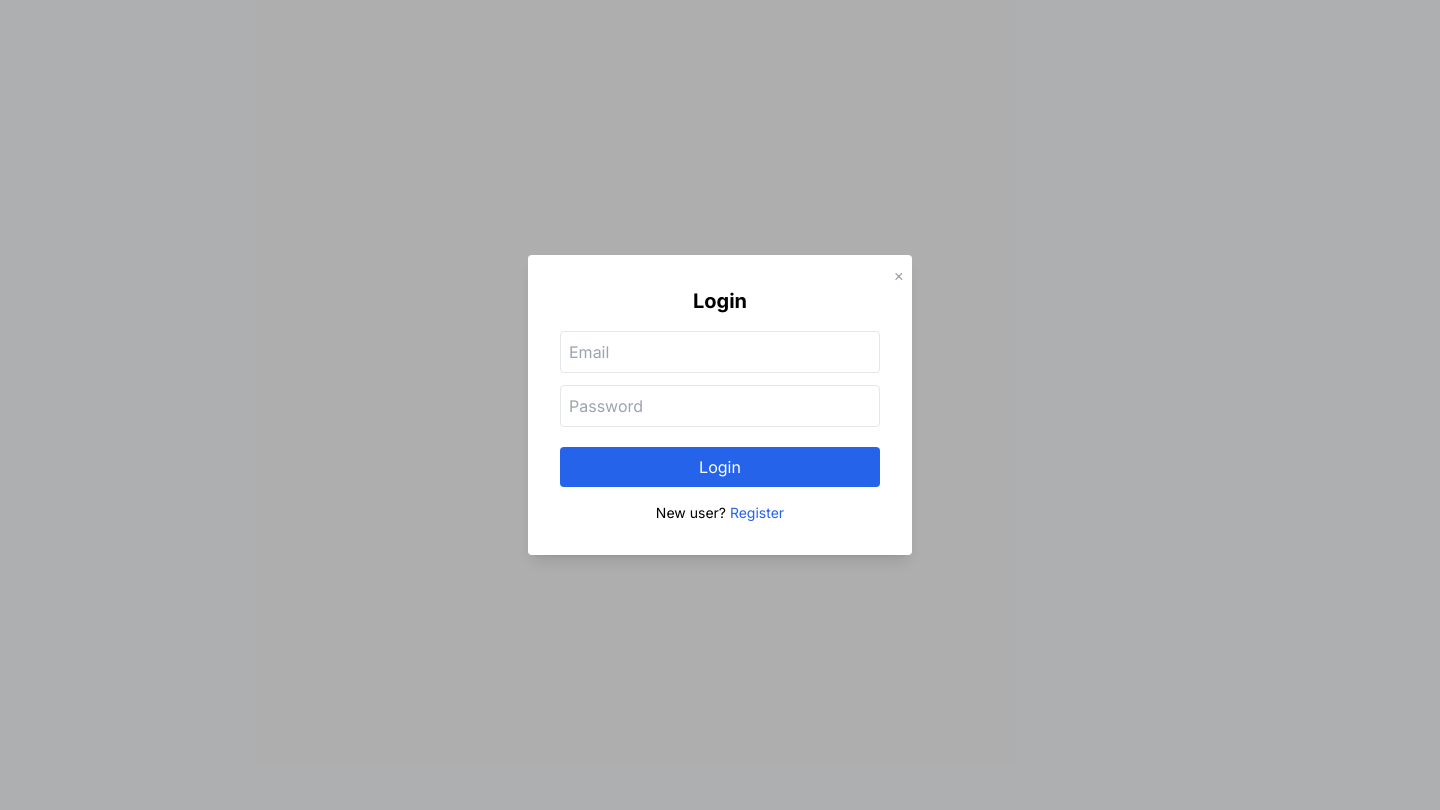
Test: AuthModal › renders login and register forms
expect the heading "Login" is shown: met, box x1=693 y1=289 x2=747 y2=313
Click the button "Register". click: (757, 513)
box: x1=730 y1=503 x2=784 y2=523
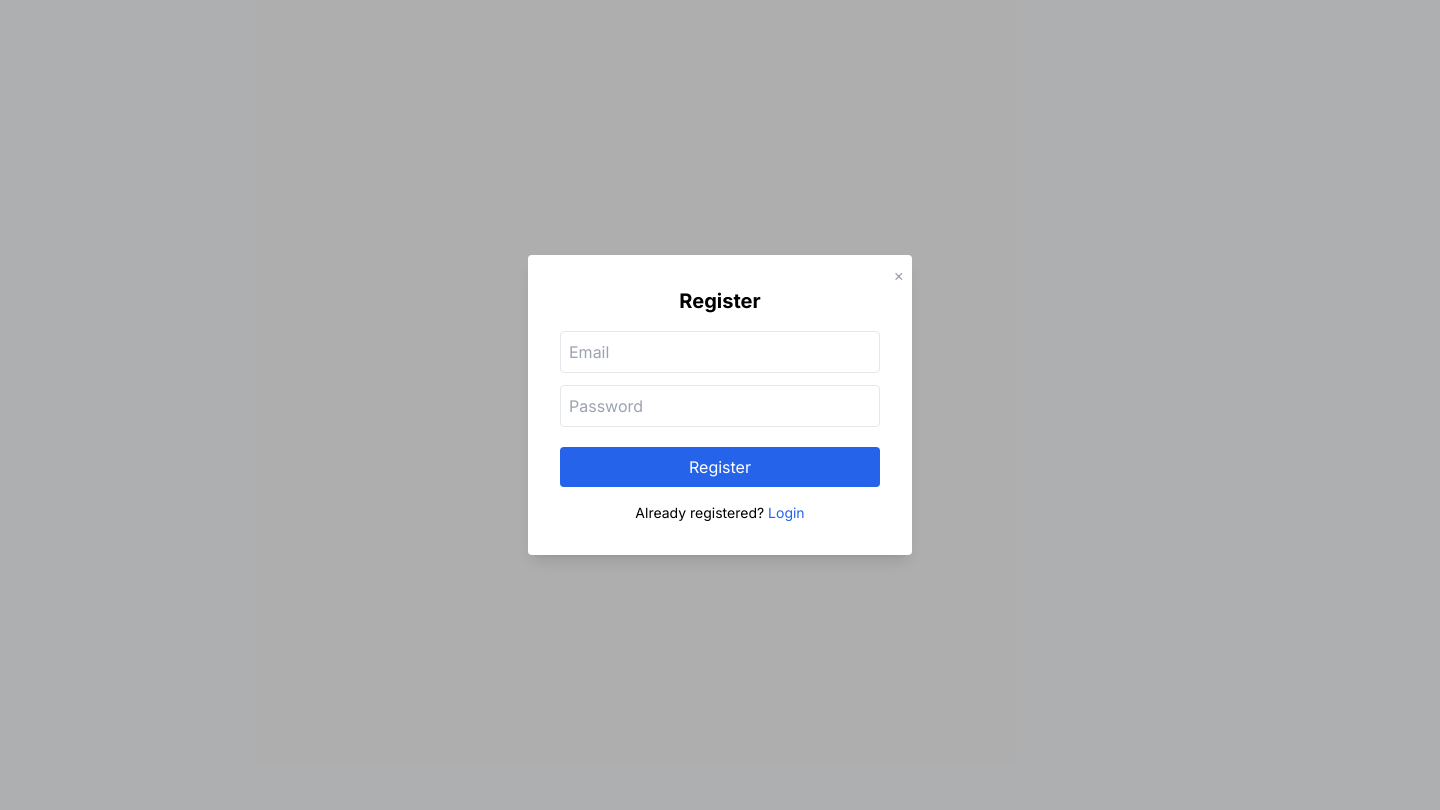
expect the heading "Register" is shown: met, box x1=679 y1=289 x2=761 y2=313
expect the button "Register" is shown: met, box x1=560 y1=447 x2=880 y2=487
